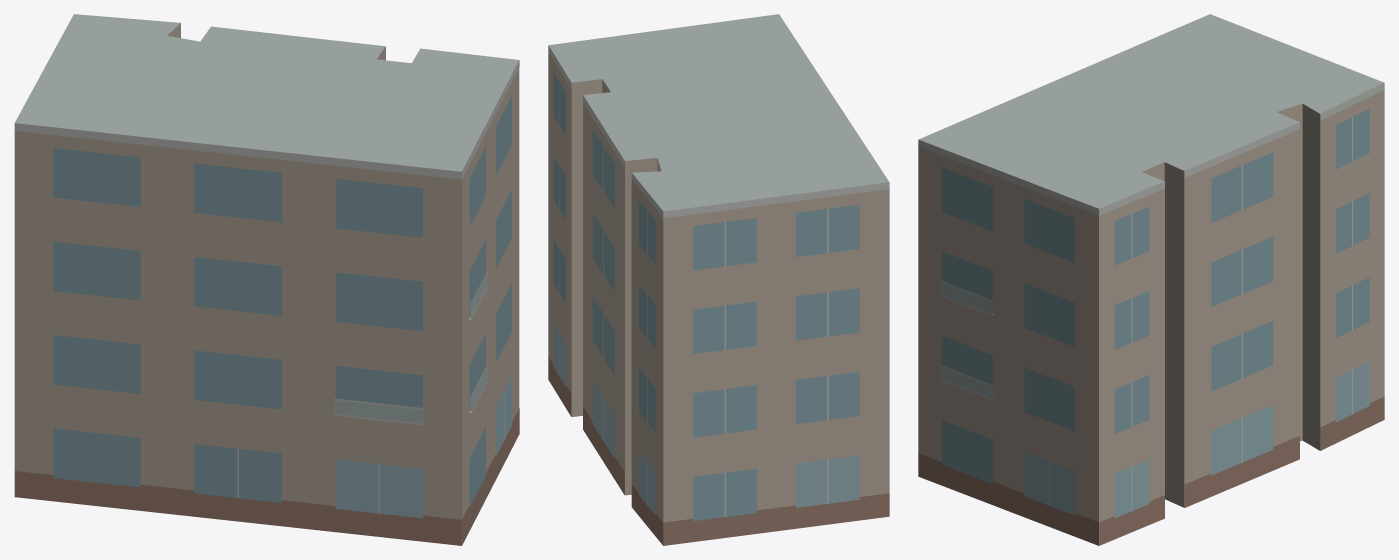
File: survey-upis-32883319.glb
3 views of the same model, side by side, from view 1: azimuth 30°, elevation 25°; view 2: azimuth 150°, elevation 25°; view 3: azimuth 270°, elevation 25° (orthographic). The views are drawn at different scales.
Parts seen in each view (by area): view 1: survey-upis-32883319.tmp; view 2: survey-upis-32883319.tmp; view 3: survey-upis-32883319.tmp.
Part boxes in pixels (<box>): survey-upis-32883319.tmp: <box>14,14,519,545</box>; survey-upis-32883319.tmp: <box>548,14,889,545</box>; survey-upis-32883319.tmp: <box>918,14,1384,545</box>.
Size of the model in its own units: 14.64 by 11.8 by 14.8.
